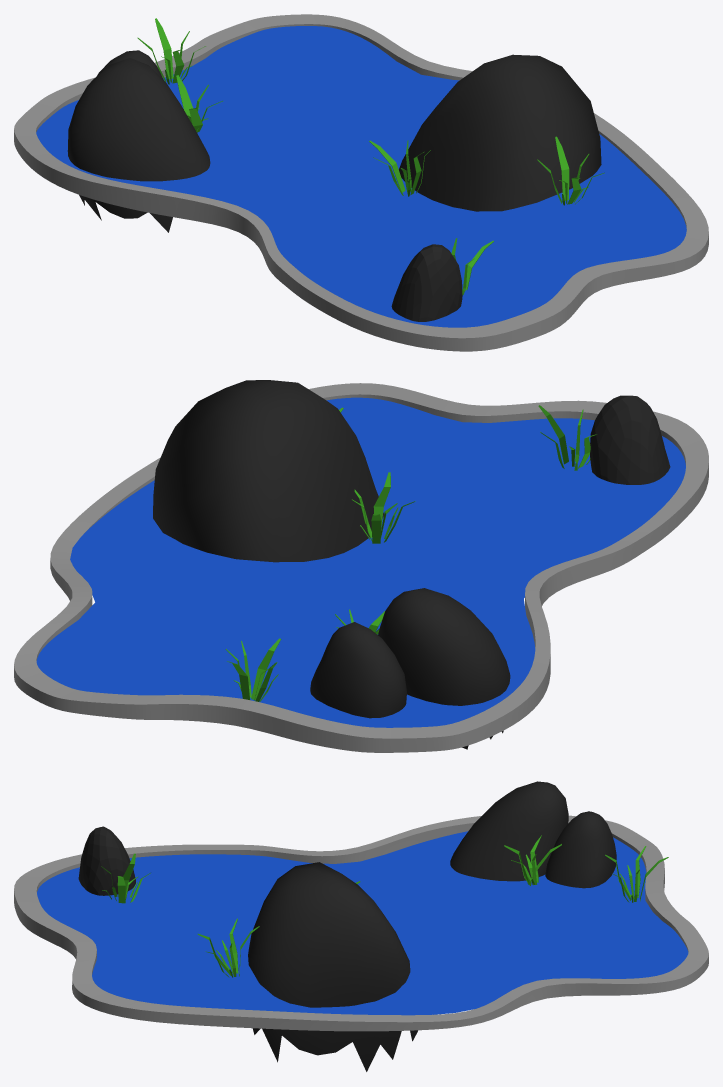
File: pond_5.FBX
The picture shows the model from 3 angles, top to bottom: view 1: azimuth 30°, elevation 25°; view 2: azimuth 150°, elevation 25°; view 3: azimuth 270°, elevation 25°; orthographic projection. The views are drawn at different scales.
Parts seen in each view (by area): view 1: Plane006, pond_5, Grass_011; view 2: Plane006, pond_5, Grass_011; view 3: Plane006, pond_5, Grass_011.
Part boxes in pixels (x1,y1,x2,y2): Plane006: (36, 26, 686, 327); pond_5: (14, 14, 708, 351); Grass_011: (137, 18, 604, 294); Plane006: (36, 397, 685, 727); pond_5: (14, 380, 708, 752); Grass_011: (225, 405, 597, 701); Plane006: (37, 831, 688, 1015); pond_5: (14, 781, 708, 1071); Grass_011: (101, 835, 668, 977).
Bounding box in the file's own units: 27.7 × 11.19 × 39.62.
